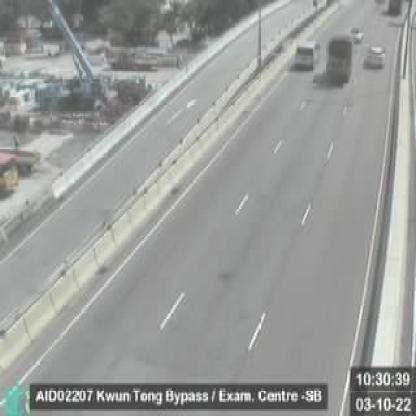Car: (294, 40, 318, 67), (363, 45, 385, 69)
